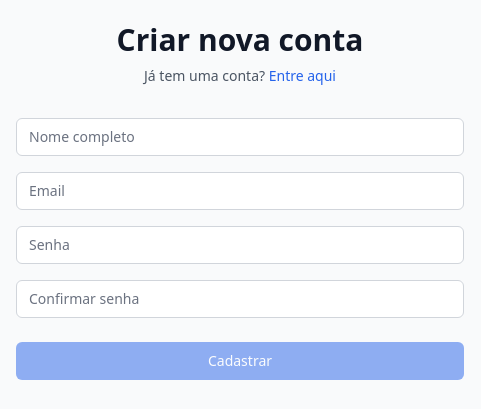
it: RegisterForm Component › Form Validation › should show name validation error
In the field labelled "Nome completo": (240,137) [16,118,464,156], type "T"
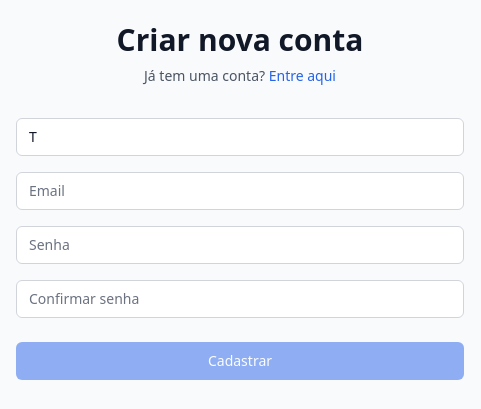
Leave the field named "Nome completo", box [16,118,464,156]
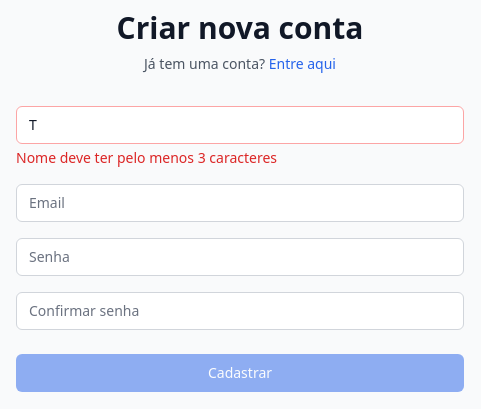
Now the text "Nome deve ter pelo menos 3 caracteres" is shown, box [16,148,277,167]
